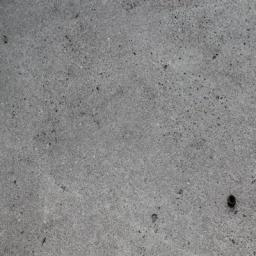FOD: (229, 194, 238, 209)
